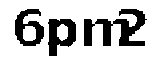2: (121, 5, 150, 50)
6: (11, 4, 45, 50)
m: (81, 16, 129, 52)
p: (45, 15, 81, 59)
